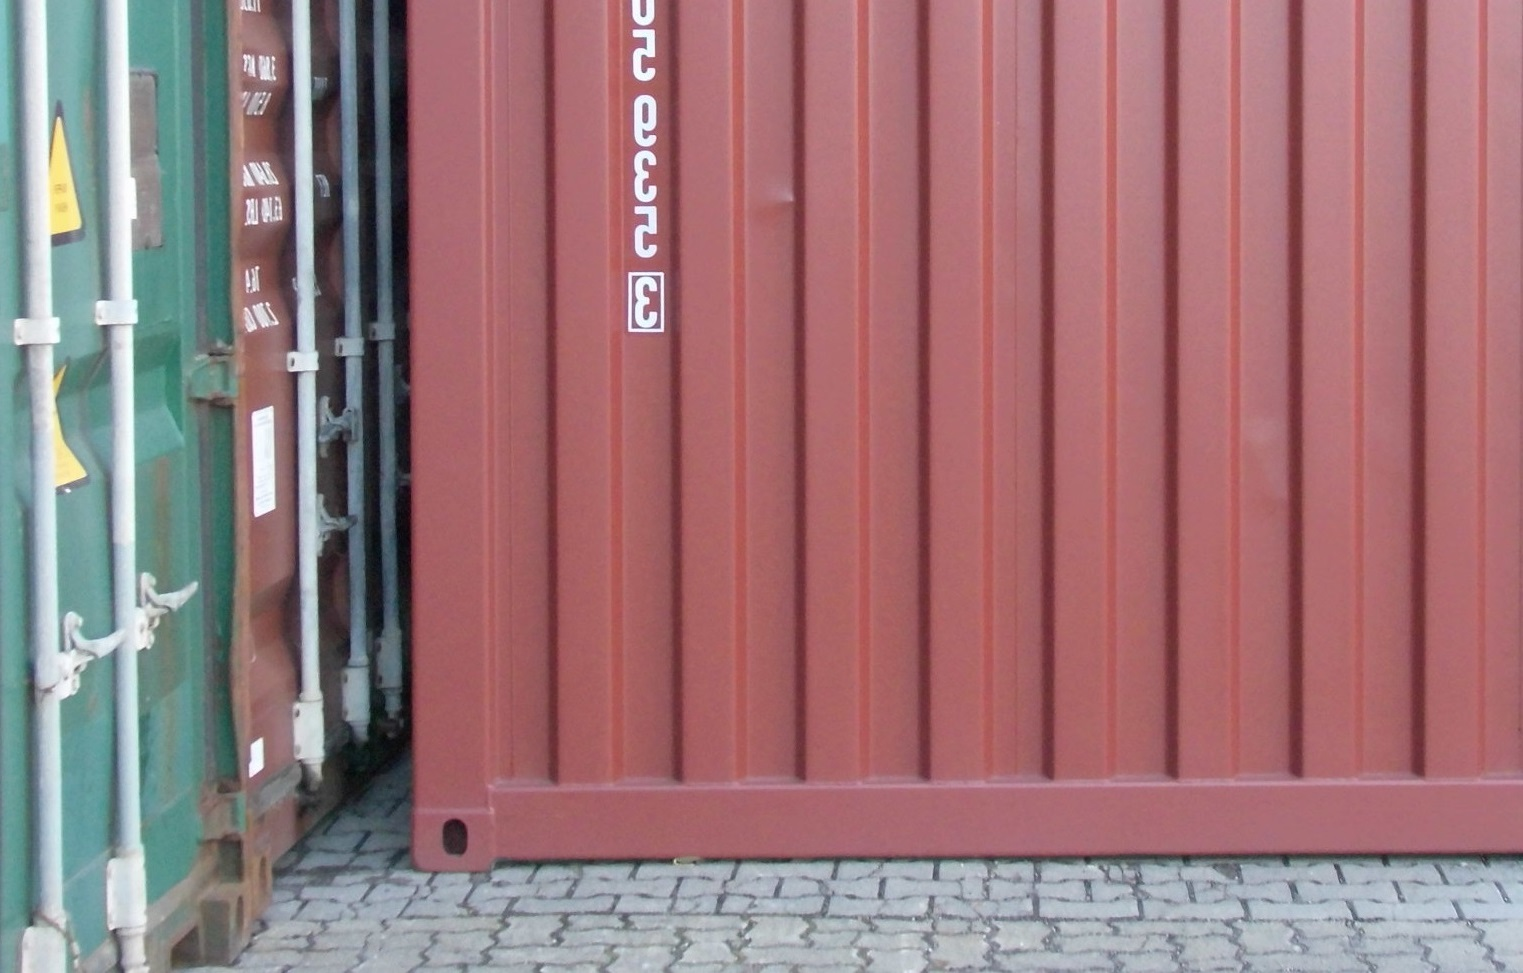container_no_door: (409, 8, 1512, 882)
